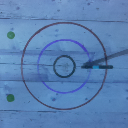Axe Tip: (85, 63, 92, 65)
